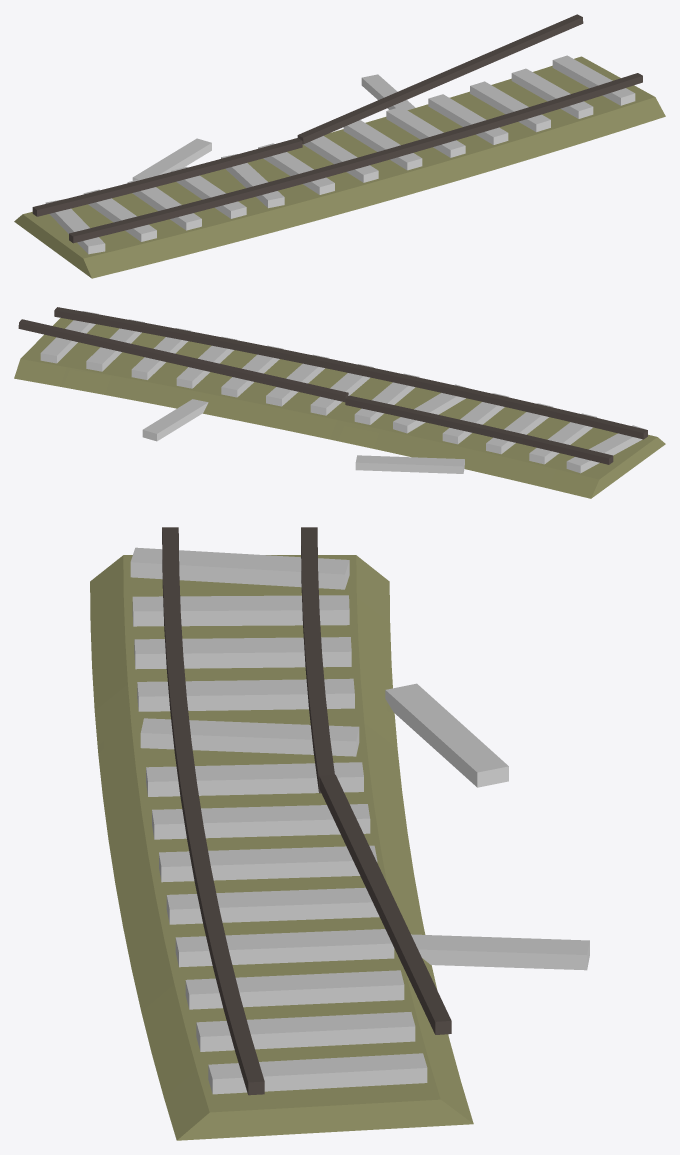
File: SM_Via_CurvaR120_v4_Danada_LOD1.fbx
3 renders of one model, top to bottom at view 1: azimuth 30°, elevation 25°; view 2: azimuth 150°, elevation 25°; view 3: azimuth 270°, elevation 25°, orthographic. The views are drawn at different scales.
Visible parts, largest first — view 1: SM_via_trazado_v19_LOD1; view 2: SM_via_trazado_v19_LOD1; view 3: SM_via_trazado_v19_LOD1.
Part boxes in pixels (<box>): SM_via_trazado_v19_LOD1: <box>14,14,665,278</box>; SM_via_trazado_v19_LOD1: <box>14,307,665,498</box>; SM_via_trazado_v19_LOD1: <box>90,527,589,1140</box>.
Bounding box in the file's own units: 15.9 × 1.38 × 6.01.
